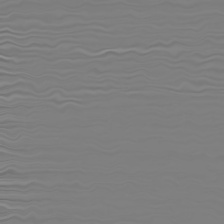cavities: (32, 100, 166, 172)
